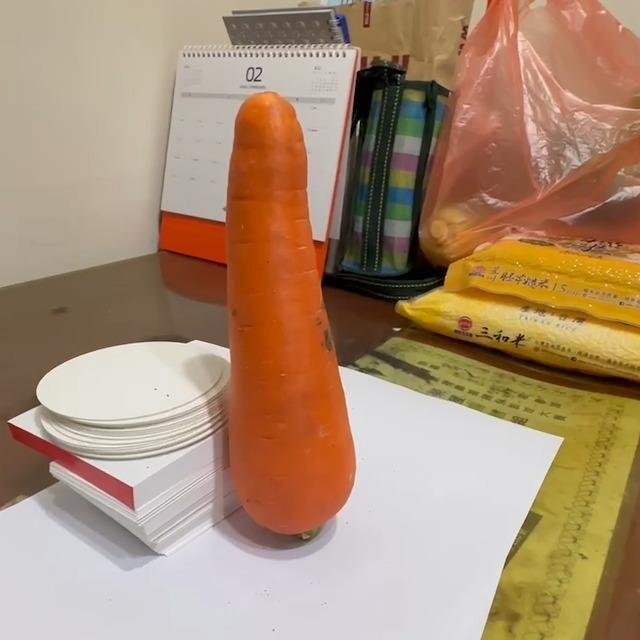carrot: (222, 97, 365, 548)
